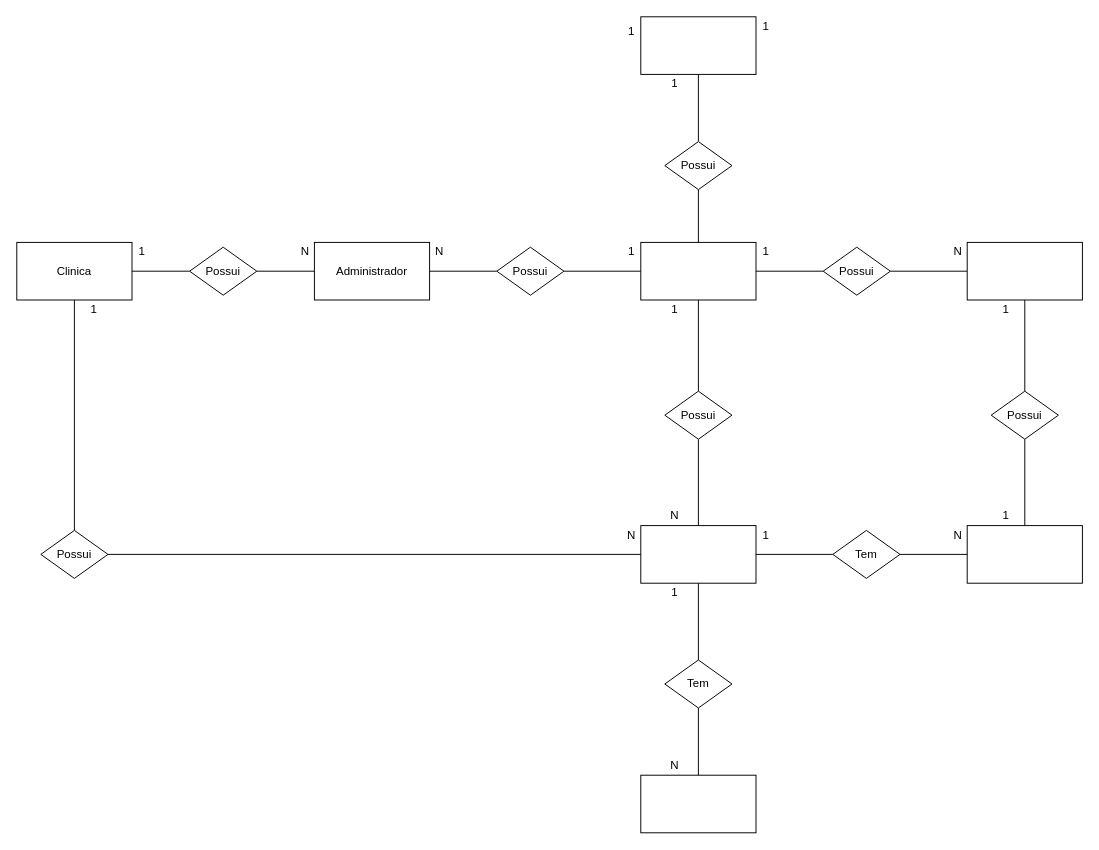
Some shapes in this 1099 by 850 pixel diagram are drawn without their labels. The box of each missing label's shape, as (x1, y1, x2, y2) in pixels:
Consulta: (966, 525, 1082, 583)
Especialidade: (640, 774, 756, 833)
Médico: (640, 525, 756, 583)
Prontuario: (966, 241, 1082, 300)
TipoUsuario: (640, 16, 756, 74)
Usuario: (640, 241, 756, 300)
